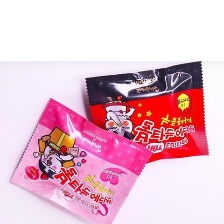snack: (2, 93, 156, 224), (78, 58, 214, 171)
